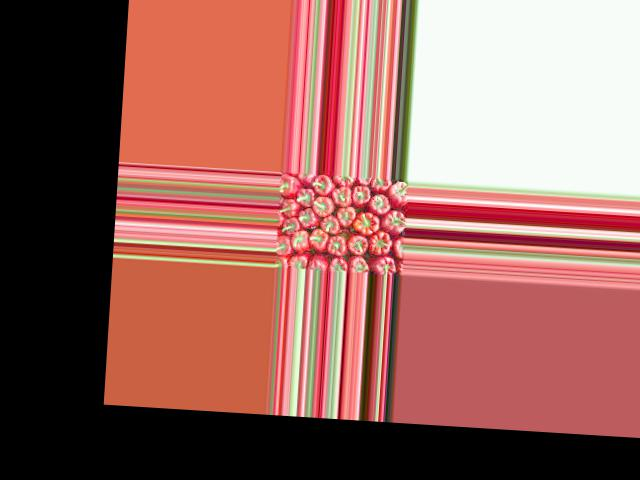bell_pepper: (280, 174, 301, 195)
